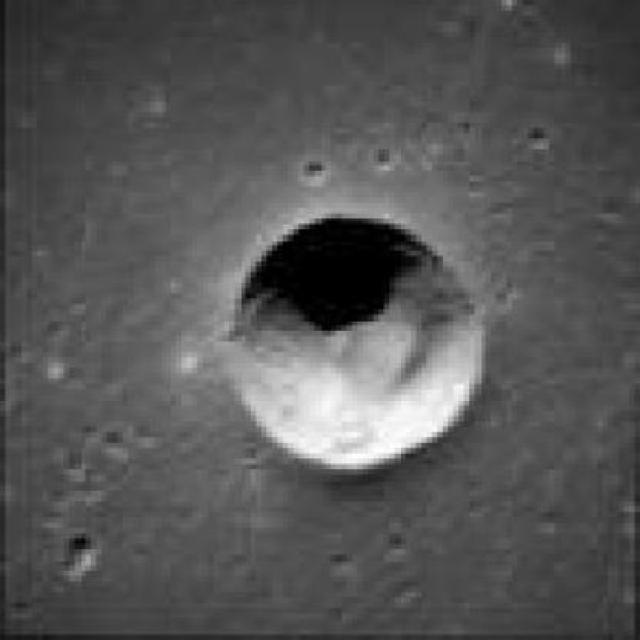crater: (226, 214, 482, 468)
